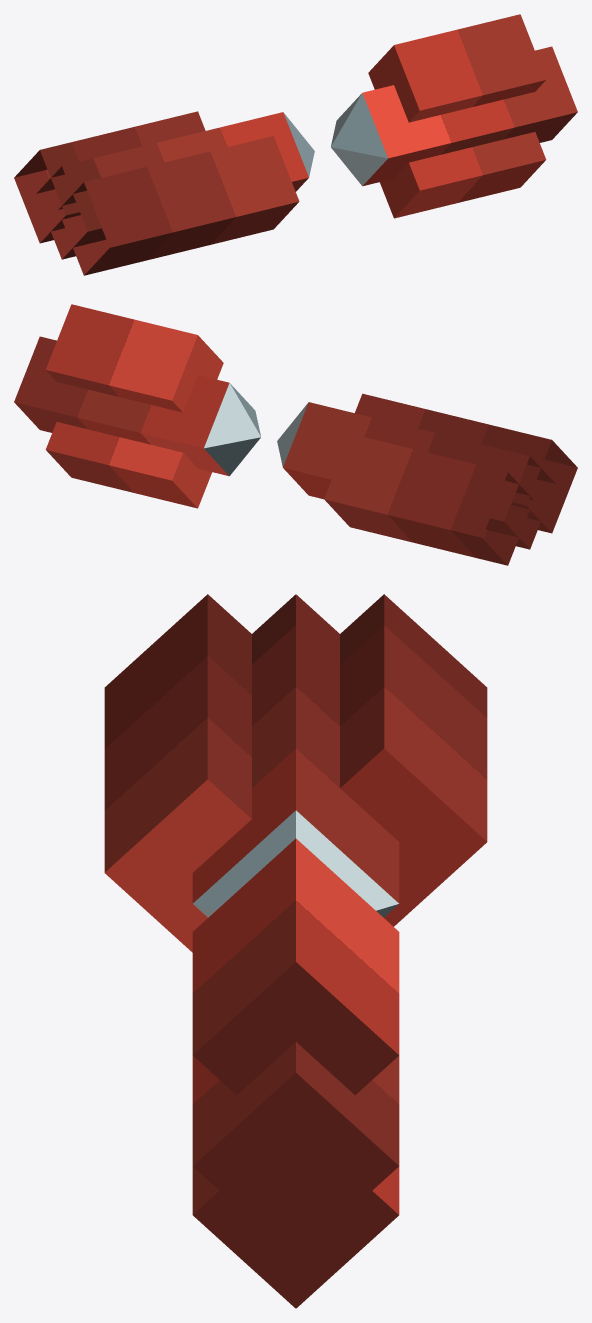
File: signalite_spike_negating.obj
The picture shows the model from 3 angles, top to bottom: view 1: azimuth 30°, elevation 25°; view 2: azimuth 150°, elevation 25°; view 3: azimuth 270°, elevation 25°; orthographic projection. The views are drawn at different scales.
Visible parts, largest first — view 1: SPIKE_NEGATING_Cube.019; view 2: SPIKE_NEGATING_Cube.019; view 3: SPIKE_NEGATING_Cube.019.
Boxes of the visible parts, x1=… form: SPIKE_NEGATING_Cube.019: x1=14, y1=14, x2=577, y2=275; SPIKE_NEGATING_Cube.019: x1=14, y1=304, x2=577, y2=565; SPIKE_NEGATING_Cube.019: x1=104, y1=594, x2=487, y2=1308.
Bounding box in the file's own units: 0.4844 × 0.1638 × 0.1638.
